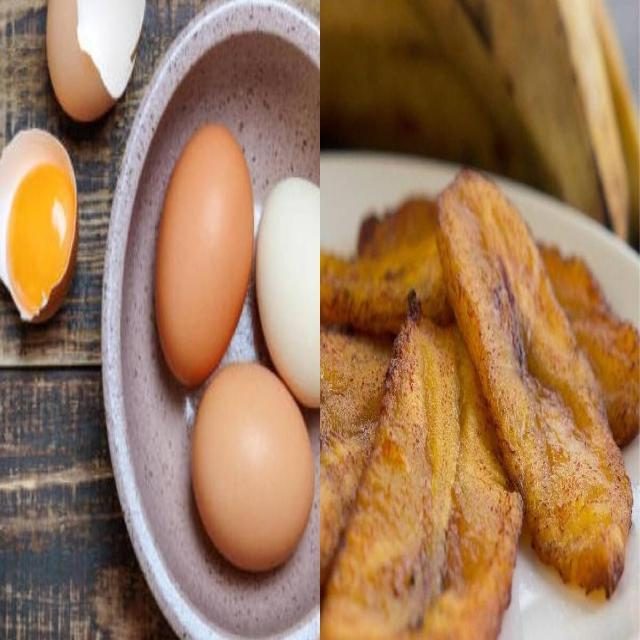huevos: (148, 117, 260, 397)
platano: (420, 170, 632, 606)
